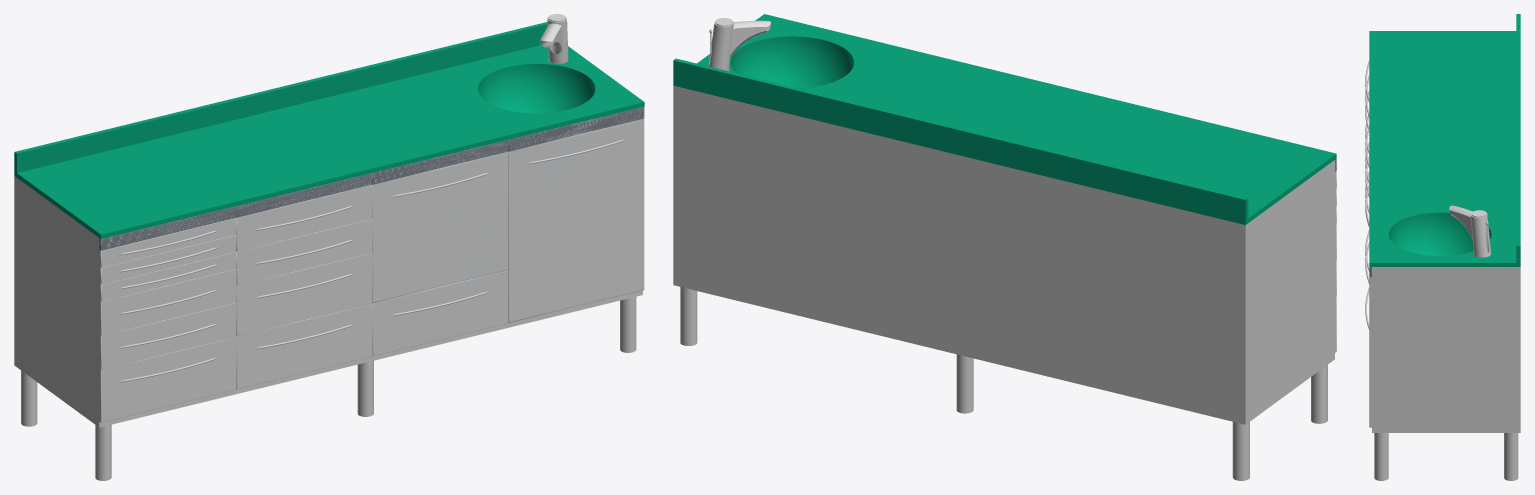
Rendered from dental_cabinet.glb.
3 renders of one model, left to right at view 1: azimuth 30°, elevation 25°; view 2: azimuth 150°, elevation 25°; view 3: azimuth 270°, elevation 25°, orthographic. The views are drawn at different scales.
Visible parts, largest first — view 1: group_4.002, instance_26, group_2, instance_33, instance_23, instance_29, instance_35, instance_21, group_4, instance_22, instance_25, instance_28 (+12 smaller); view 2: group_2, group_4.002, group_4, instance_0, instance_2, instance_1, group_6, instance_4, group_7; view 3: group_4.002, group_2, group_4, group_6, instance_1, instance_3, instance_26, group_7.
Part boxes in pixels (x1,y1,x2,y2): group_4.002: (14, 22, 644, 238); instance_26: (508, 118, 644, 322); group_2: (14, 176, 642, 427); instance_33: (372, 151, 508, 302); instance_23: (99, 336, 236, 422); instance_29: (372, 270, 508, 356); instance_35: (236, 303, 372, 389); instance_21: (236, 252, 372, 336); group_4: (478, 64, 595, 113); instance_22: (99, 302, 236, 369); instance_25: (99, 268, 236, 335); instance_28: (236, 184, 372, 251); group_2: (673, 85, 1334, 424); group_4.002: (673, 14, 1336, 224); group_4: (730, 36, 853, 88); instance_0: (1232, 422, 1249, 480); instance_2: (956, 354, 973, 413); instance_1: (680, 287, 697, 345); group_6: (708, 21, 733, 70); instance_4: (1311, 365, 1327, 423); group_7: (729, 20, 770, 57); group_4.002: (1369, 14, 1520, 266); group_2: (1372, 267, 1520, 432); group_4: (1389, 212, 1491, 255); group_6: (1470, 212, 1491, 257); instance_1: (1504, 433, 1518, 480); instance_3: (1374, 433, 1388, 480); instance_26: (1369, 277, 1371, 427); group_7: (1449, 205, 1472, 239).
Size of the model in its own units: 1.92 by 0.998 by 0.5451.
